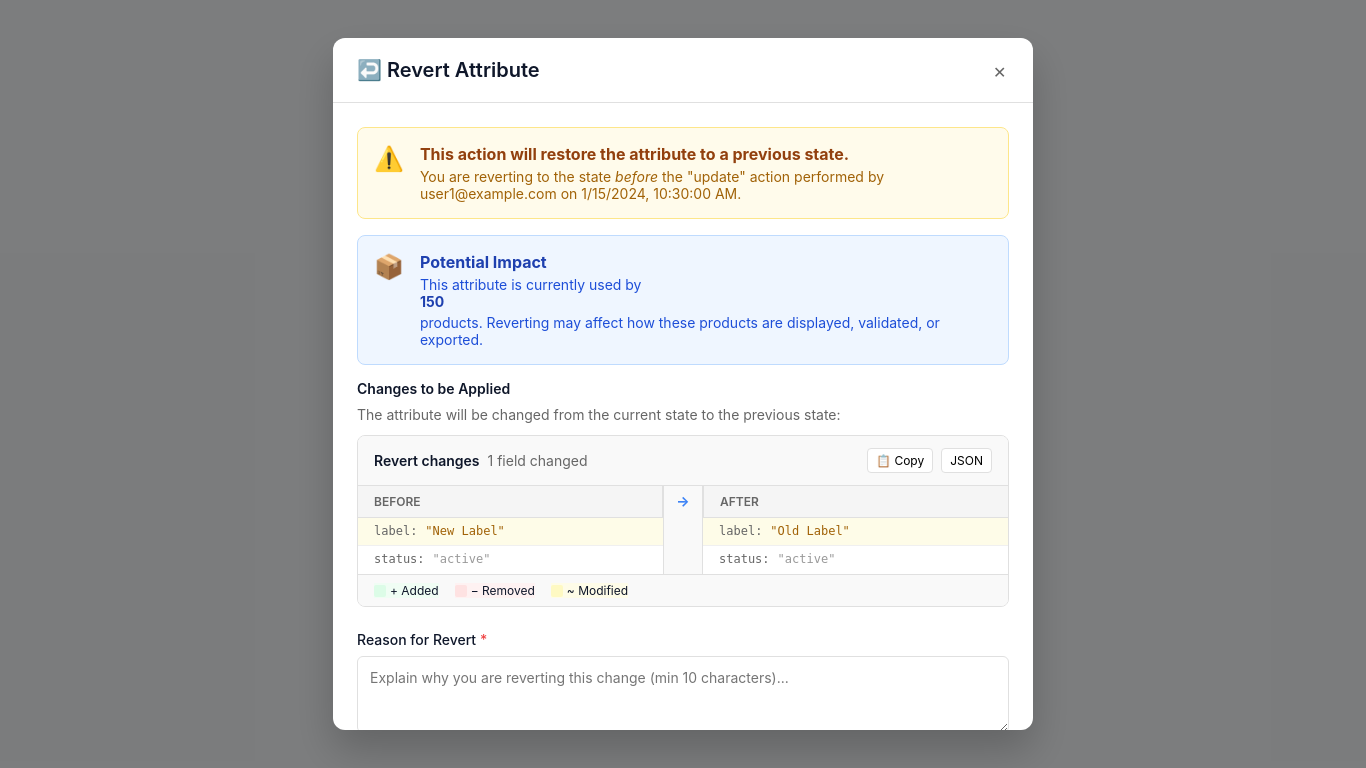
Test case: RevertModal › should enable submit when reason and checkbox provided
The image size is (1366, 768).
Type "This is a valid reason for reverting" into the text box with placeholder "Explain why" at (683, 695), box [357,656,1009,733]
(page scrolled)
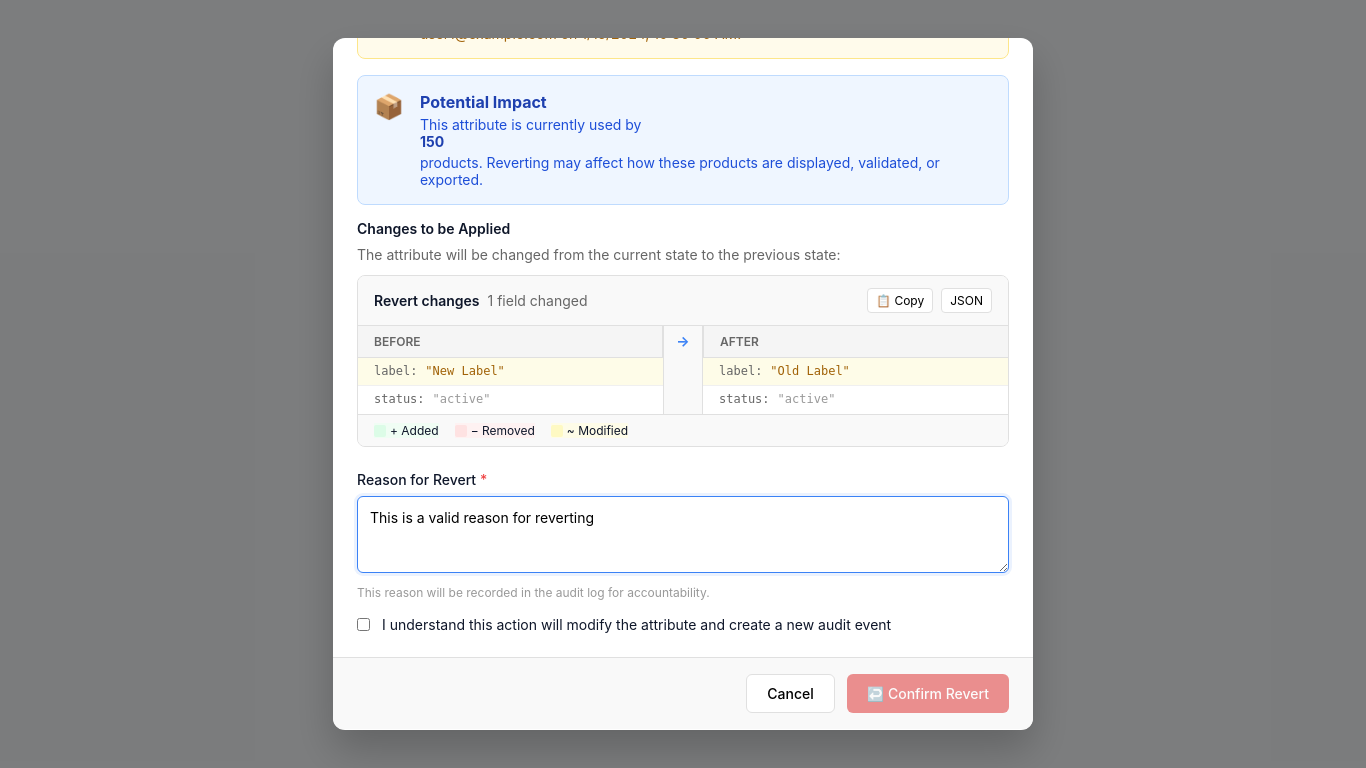
Click the checkbox at (364, 625), box [357,618,370,631]
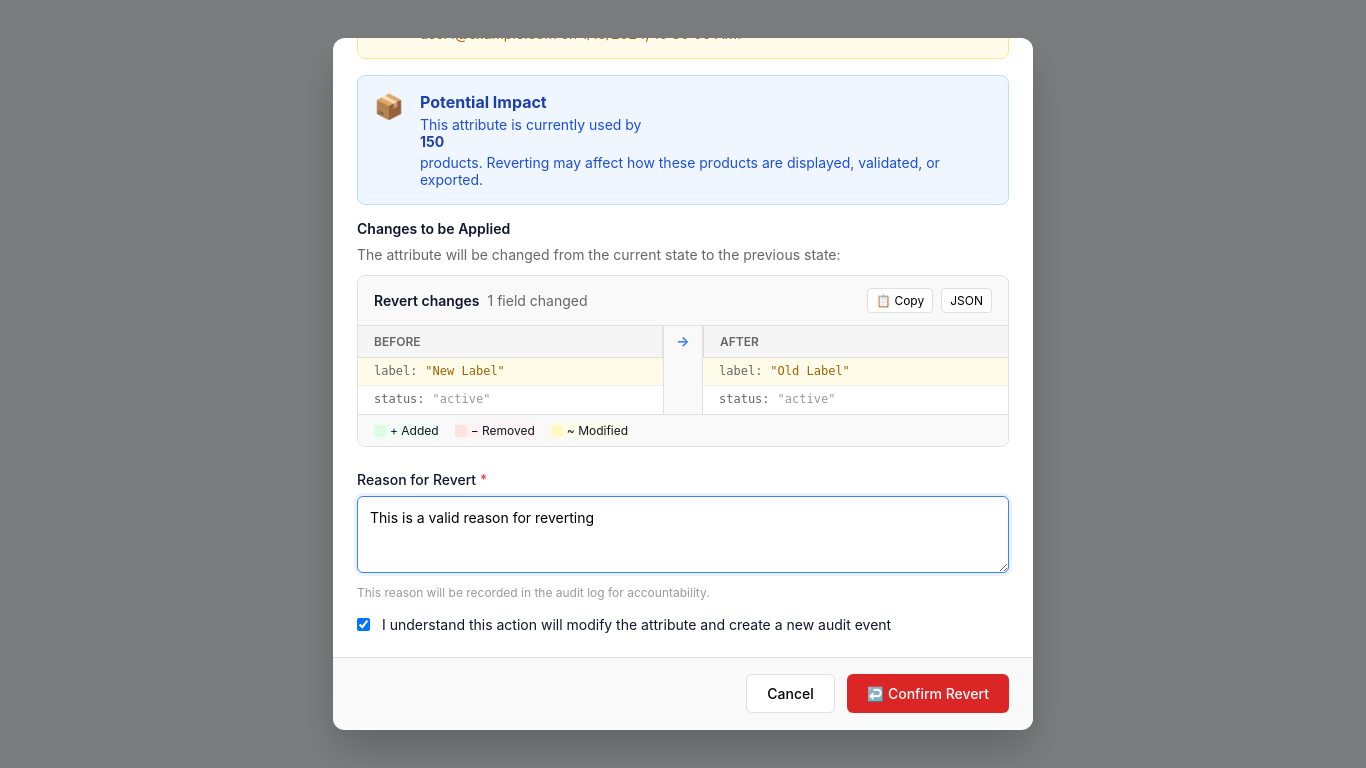
expect the button "↩️ Confirm Revert" is enabled: met, box [847,674,1009,713]
